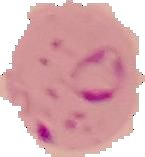parasitized: (30, 88, 111, 150), (66, 43, 131, 111)
